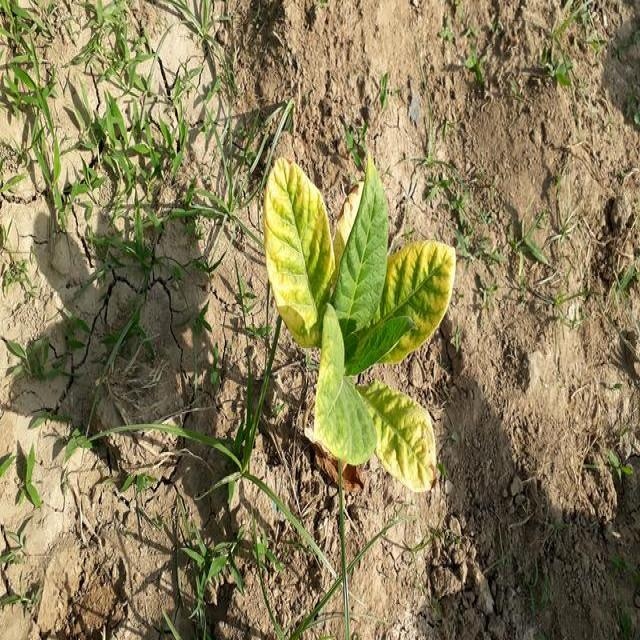crop: (254, 157, 448, 498)
